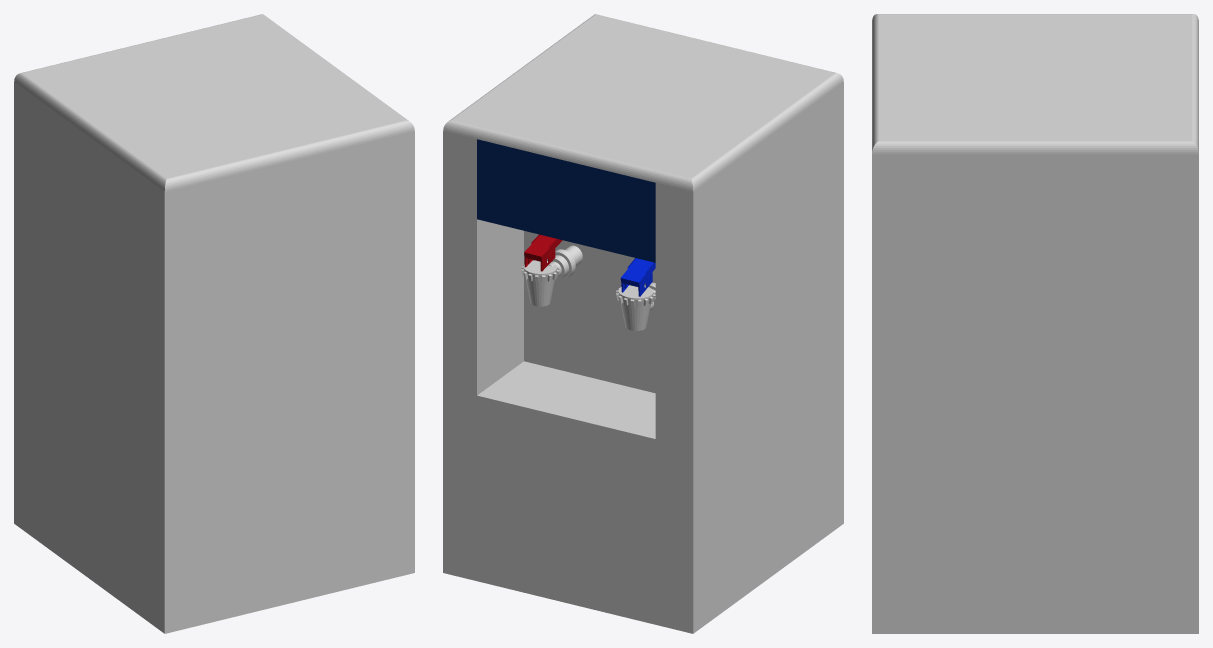
File: dispenser 1.fbx
The picture shows the model from 3 angles, left to right: view 1: azimuth 30°, elevation 25°; view 2: azimuth 150°, elevation 25°; view 3: azimuth 270°, elevation 25°; orthographic projection. The views are drawn at different scales.
Parts seen in each view (by area): view 1: Cylinder; view 2: Cylinder, Cylinder.004, Cylinder.001, Cube.001, Cube.002, Cylinder.002; view 3: Cylinder.
Boxes of the visible parts, x1,y1,x2,y2 form: Cylinder: (14, 14, 414, 633); Cylinder: (443, 14, 843, 633); Cylinder.004: (616, 285, 655, 330); Cylinder.001: (521, 260, 559, 306); Cube.001: (620, 258, 655, 296); Cube.002: (524, 234, 562, 271); Cylinder.002: (547, 245, 582, 279); Cylinder: (872, 14, 1198, 633).
Bounding box in the file's own units: 227 × 392 × 237.
